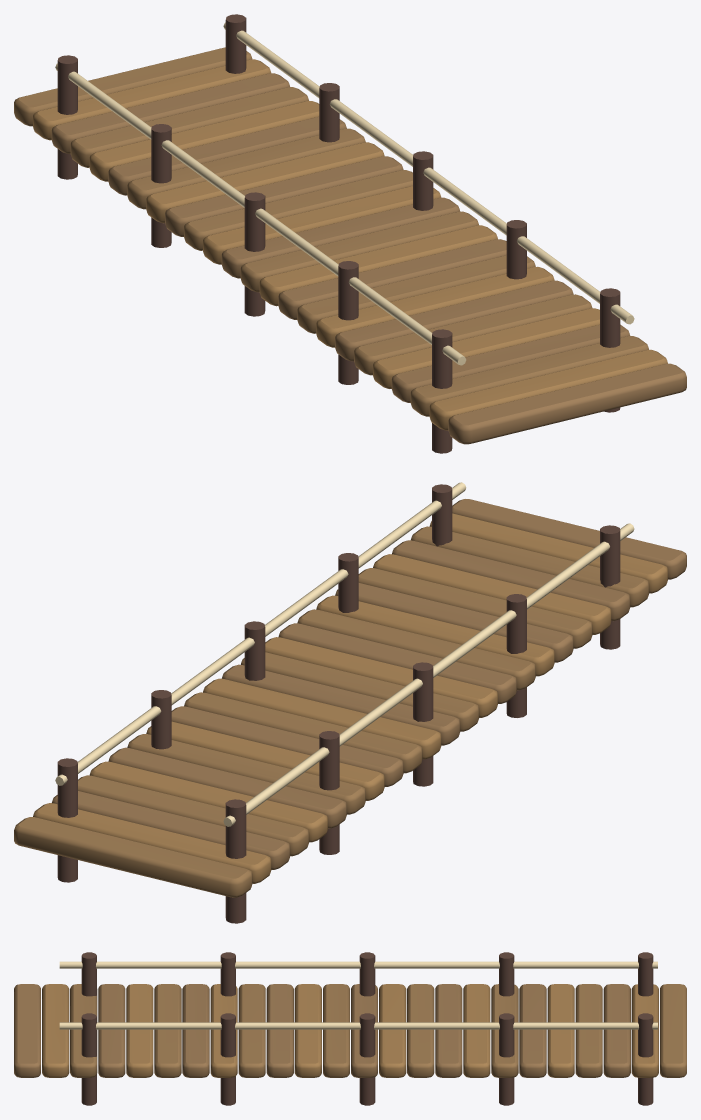
File: tropical_landmark.glb
The picture shows the model from 3 angles, top to bottom: view 1: azimuth 30°, elevation 25°; view 2: azimuth 150°, elevation 25°; view 3: azimuth 270°, elevation 25°; orthographic projection. The views are drawn at different scales.
Visible parts, largest first — view 1: TropicalLandmark; view 2: TropicalLandmark; view 3: TropicalLandmark.
Boxes of the visible parts, x1,y1,x2,y2 form: TropicalLandmark: (14, 14, 686, 453); TropicalLandmark: (14, 482, 686, 923); TropicalLandmark: (14, 952, 686, 1105).
Size of the model in its own units: 2.25 by 1.09 by 7.74.
